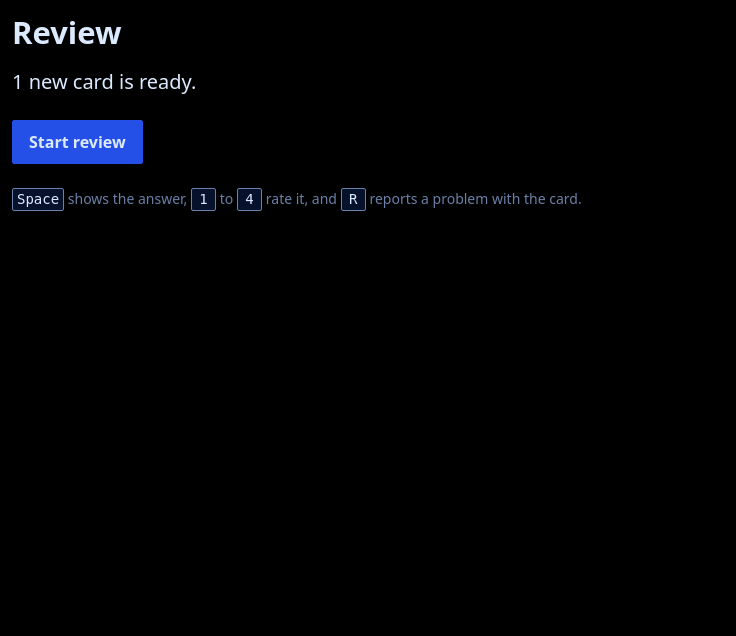
Test: Review card flip › brings a card rated Again back 10 minutes later in the same session
Later steps or results of the test are not shown.
Click the button "Start review" at (77, 142), box [12,120,143,164]
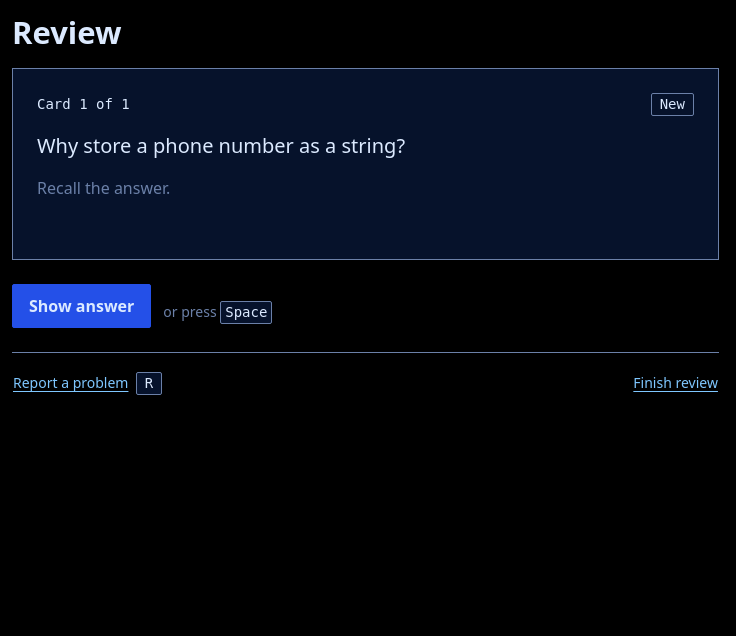
Press Space in the element named "Card 1 of 1, question", box [12,68,719,260]
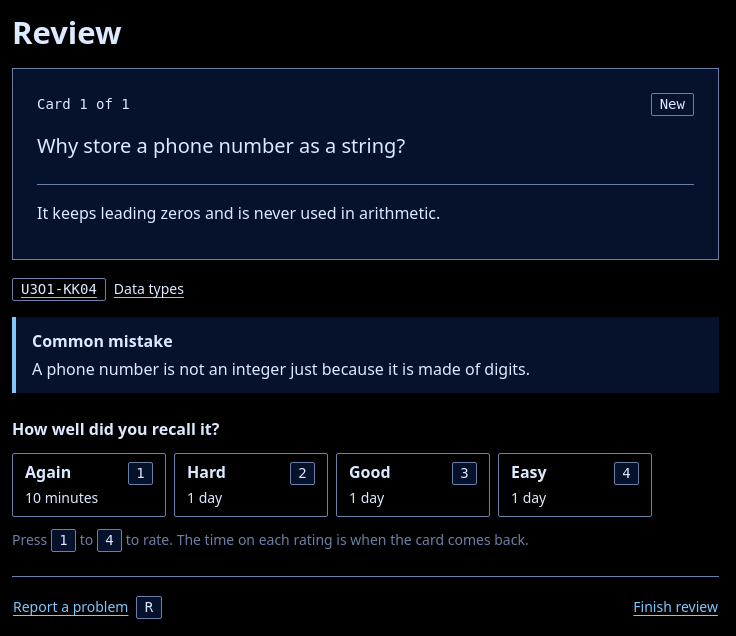
Press 1 in the element named "Card 1 of 1, answer shown", box [12,68,719,393]
Wait 601000 ms
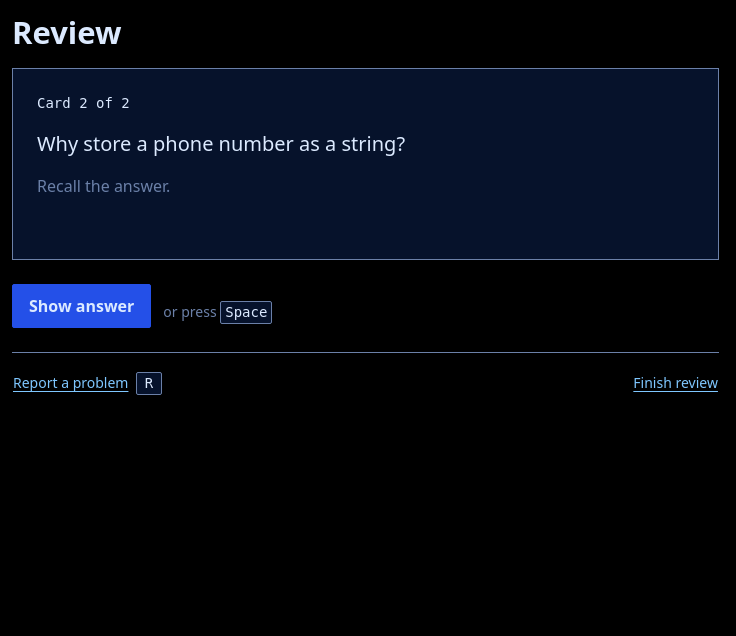
Expected: the element named "Card 2 of 2, question" is shown
Press Space in the element named "Card 2 of 2, question", box [12,68,719,260]
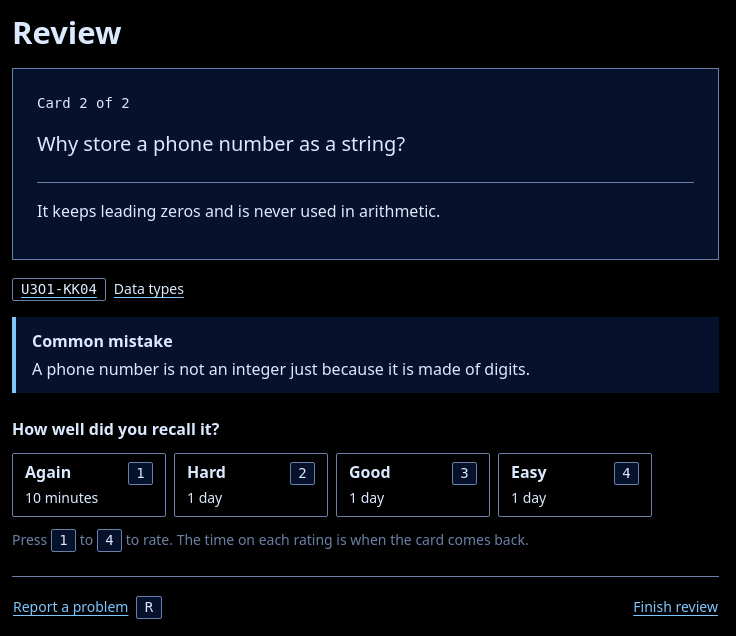
Press 3 in the element named "Card 2 of 2, question", box [12,68,719,393]
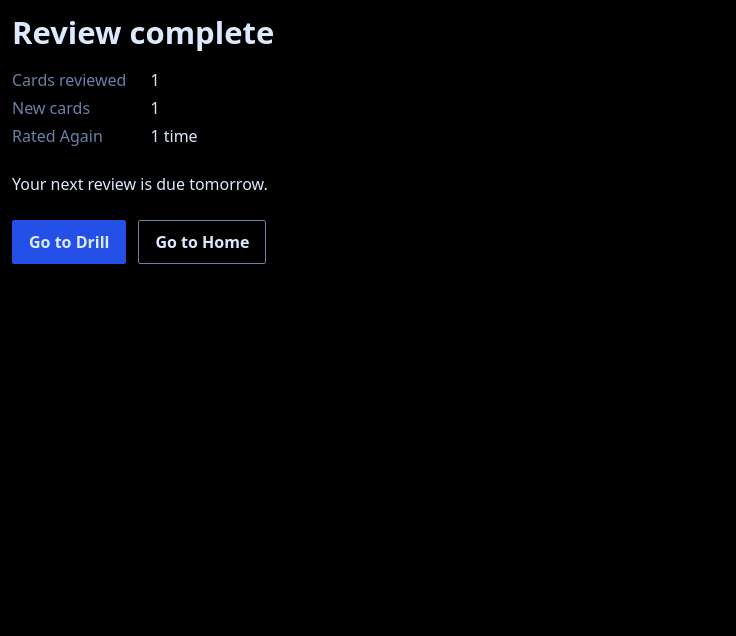
Expected: the 1st text "1" is shown, [150,69,160,91]
Expected: the text "1 time" is shown, [150,125,198,147]
Expected: the text "Your next review is due tomorrow." is shown, [12,173,268,195]
